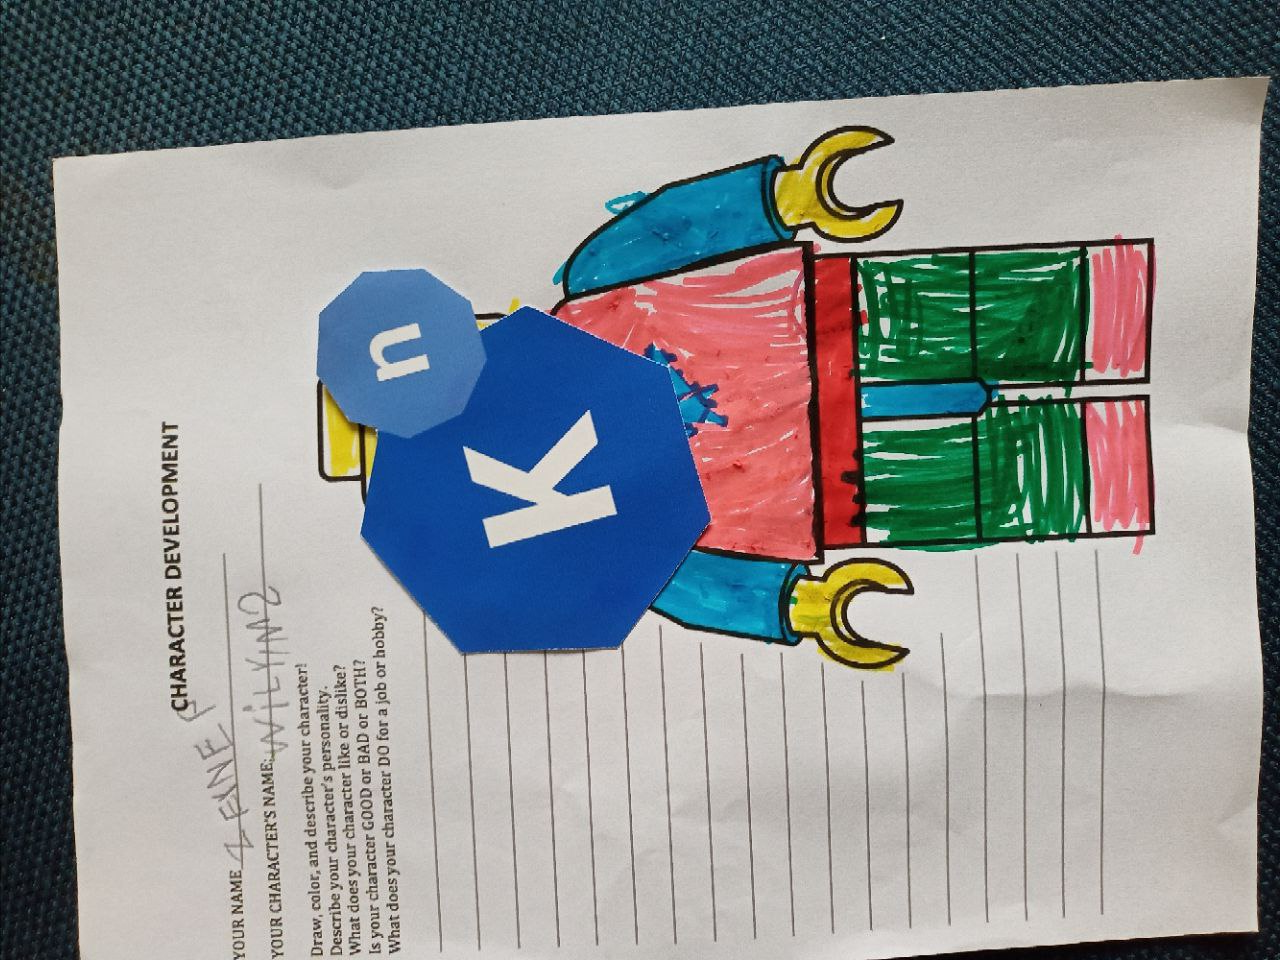knative: (314, 265, 712, 659)
